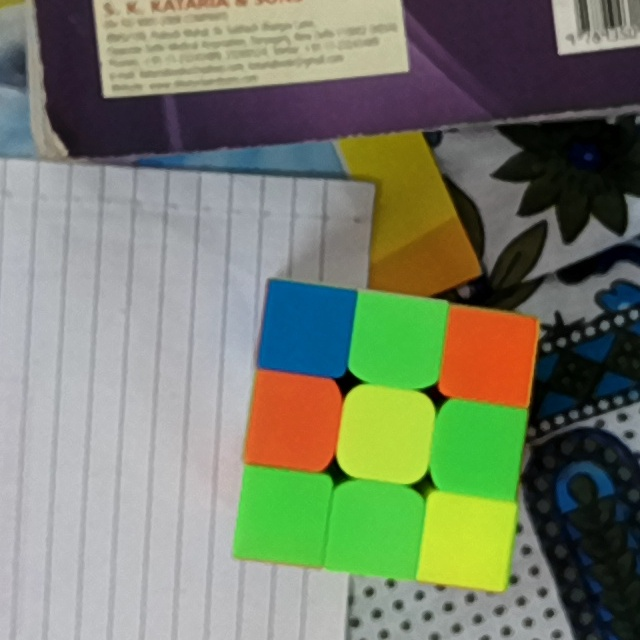tile: (428, 503, 504, 578), (244, 480, 320, 553), (359, 305, 433, 379), (351, 395, 424, 470), (336, 498, 414, 568), (270, 292, 343, 366), (256, 386, 328, 459), (450, 324, 525, 394), (445, 411, 516, 483)
